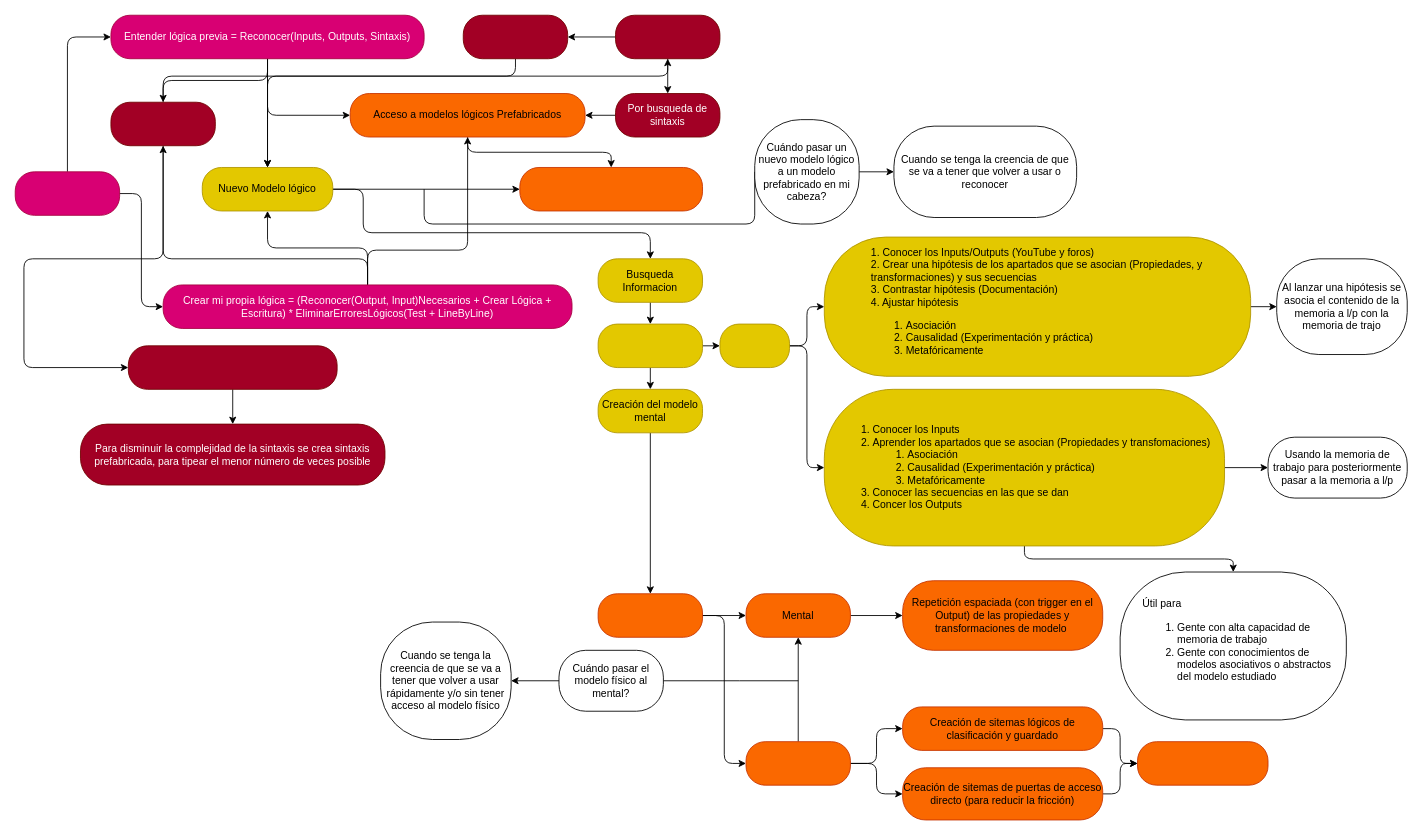
The diagram is 1422 pixels wide and 835 high, and some of its shapes have lost their labels. Here are the shapes that lost their labels. From the top down, the centre of each, then its label:
At pixel 515 36: "Por sintaxis memorizada".
At pixel 667 36: "Reconocer la sintaxis".
At pixel 162 123: "Sintaxis y escritura".
At pixel 67 193: "Codificar".
At pixel 611 189: "Modelo Lógico Prefabricado".
At pixel 650 345: "Entendimiento".
At pixel 754 345: "2 maneras de abordarlo".
At pixel 232 367: "Tipear sintaxis = ComplejidadSintaxis()".
At pixel 650 615: "Guardado y creación de puerta de acceso".
At pixel 797 763: "Físico".
At pixel 1202 763: "+ Revisión periódica".
